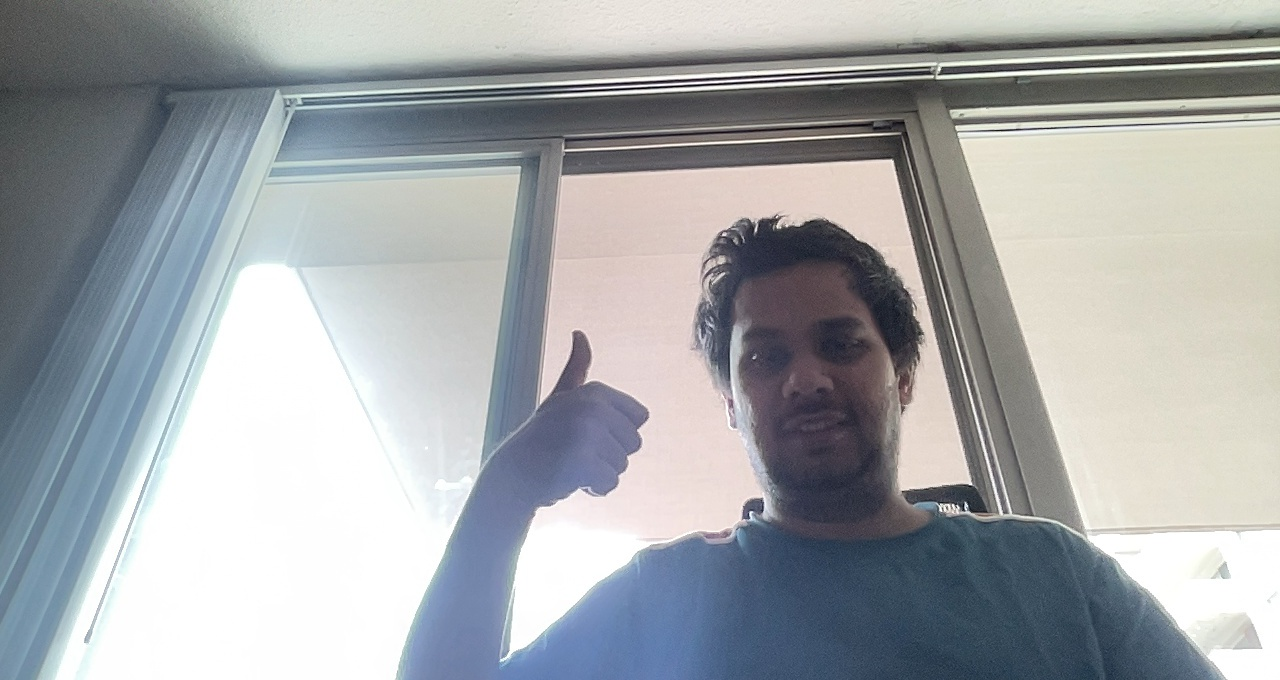thumbsup: (511, 322, 650, 507)
